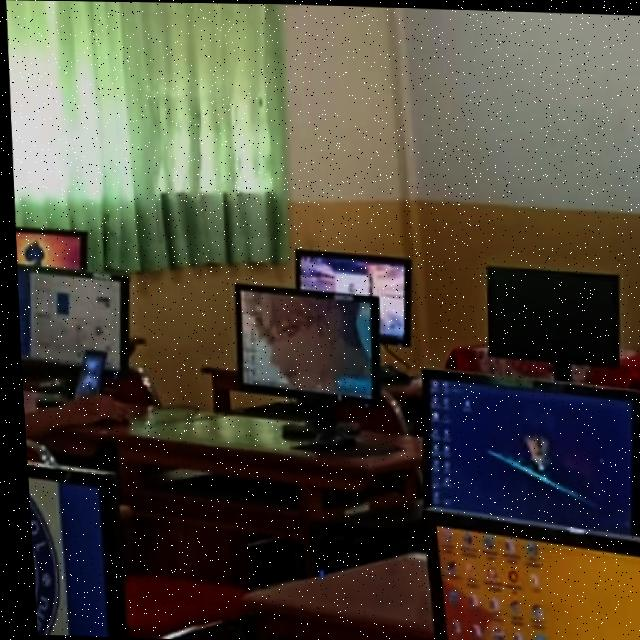offscreen: (484, 266, 615, 363)
onscreen: (419, 369, 635, 532), (419, 508, 640, 640), (21, 461, 118, 635), (233, 285, 372, 398), (14, 265, 125, 369), (293, 249, 405, 343), (12, 228, 82, 269)
